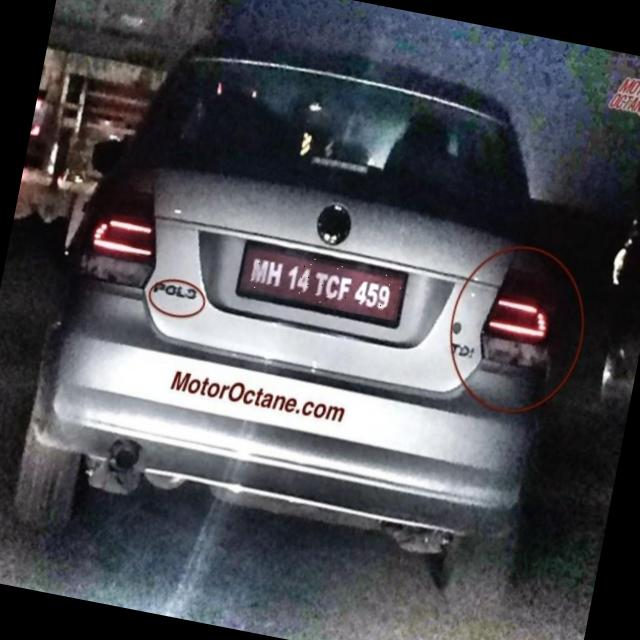Plate: (240, 246, 406, 323)
